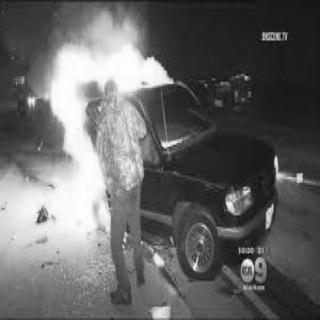Fire: (41, 29, 207, 212)
